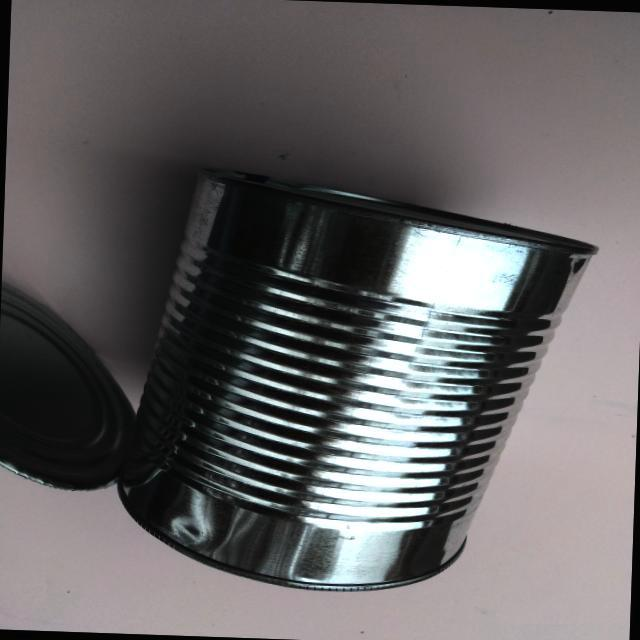metal: (0, 110, 603, 608)
